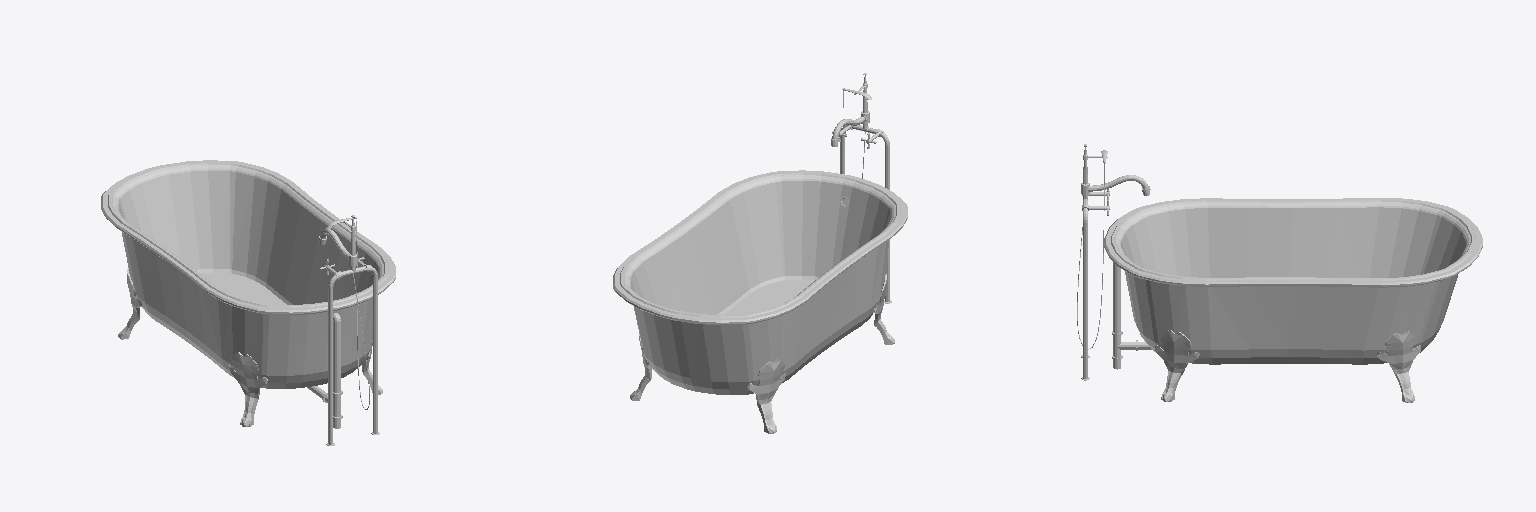
Rendered from bath.obj.
3 views of the same model, side by side, from view 1: azimuth 30°, elevation 25°; view 2: azimuth 150°, elevation 25°; view 3: azimuth 270°, elevation 25° (orthographic).
Parts seen in each view (by area): view 1: tub, facuet, tub_leg02, pipes; view 2: tub, facuet, tub_leg03; view 3: tub, facuet, tub_leg01, tub_leg, pipes.
Part boxes in pixels (x1,y1,x2,y2): tub: (101, 160, 395, 388); facuet: (319, 215, 379, 445); tub_leg02: (229, 352, 267, 426); pipes: (307, 313, 342, 428); tub: (613, 170, 907, 394); facuet: (831, 73, 891, 303); tub_leg03: (747, 359, 785, 433); tub: (1104, 198, 1482, 364); facuet: (1077, 144, 1150, 380); tub_leg01: (1155, 330, 1199, 401); tub_leg: (1377, 331, 1420, 402); pipes: (1112, 253, 1151, 369).
Size of the model in its own units: 39.08 by 47.08 by 77.33.